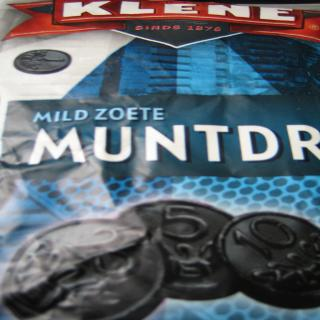Cookie: (0, 214, 167, 320), (113, 196, 242, 302), (218, 208, 320, 310)
